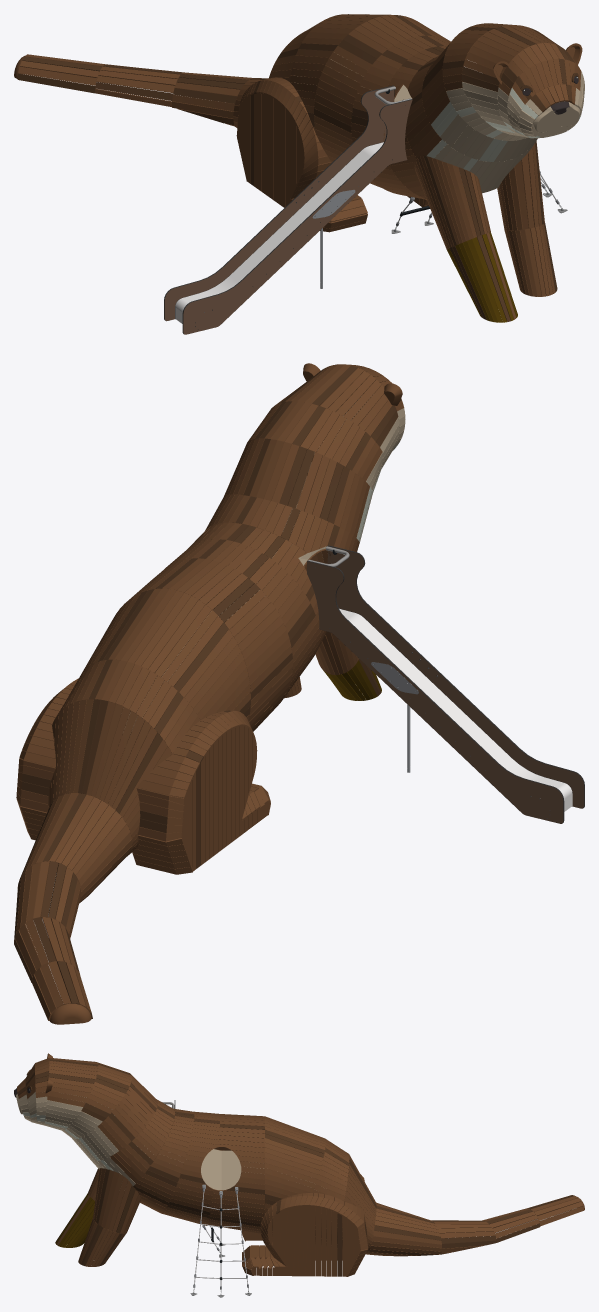
The model's file is rgss-701-p-otter.glb.
The picture shows the model from 3 angles, top to bottom: view 1: azimuth 30°, elevation 25°; view 2: azimuth 150°, elevation 25°; view 3: azimuth 270°, elevation 25°; orthographic projection. The views are drawn at different scales.
Parts seen in each view (by area): view 1: Body1; view 2: Body1; view 3: Body1.
Boxes of the visible parts, x1,y1,x2,y2 form: Body1: (14,14,584,334); Body1: (14,363,584,1024); Body1: (14,1053,584,1297).
Size of the model in its own units: 5.82 by 3.67 by 9.91.
1 material, 1 textured.
